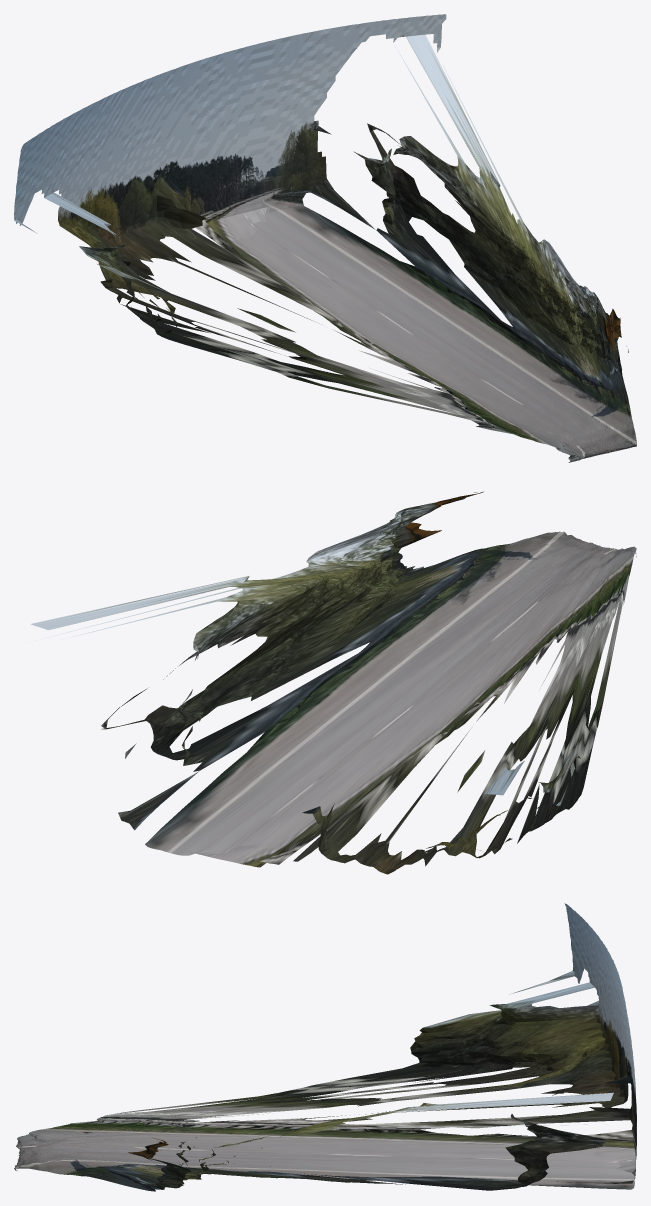
The picture shows the model from 3 angles, top to bottom: view 1: azimuth 30°, elevation 25°; view 2: azimuth 150°, elevation 25°; view 3: azimuth 270°, elevation 25°; orthographic projection. The views are drawn at different scales.
Parts seen in each view (by area): view 1: defaultobject; view 2: defaultobject; view 3: defaultobject.
Part boxes in pixels (box(x1,y1,x2,y2)): defaultobject: box(14, 14, 636, 462); defaultobject: box(30, 491, 636, 874); defaultobject: box(14, 903, 636, 1191).
Size of the model in its own units: 33.12 by 12.47 by 44.55.
1 material, 1 textured.
